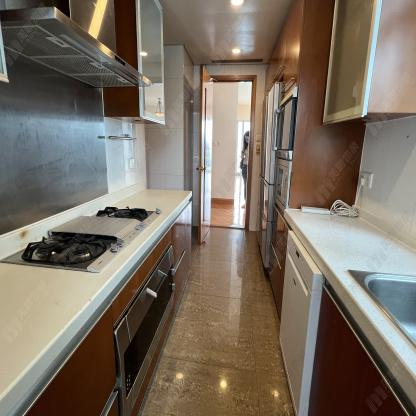Exhaust Hood: (1, 0, 154, 89)
Fridge: (259, 78, 281, 269)
Oven: (113, 242, 179, 413)
Sink: (350, 271, 415, 348)
Stove: (1, 206, 165, 276)
